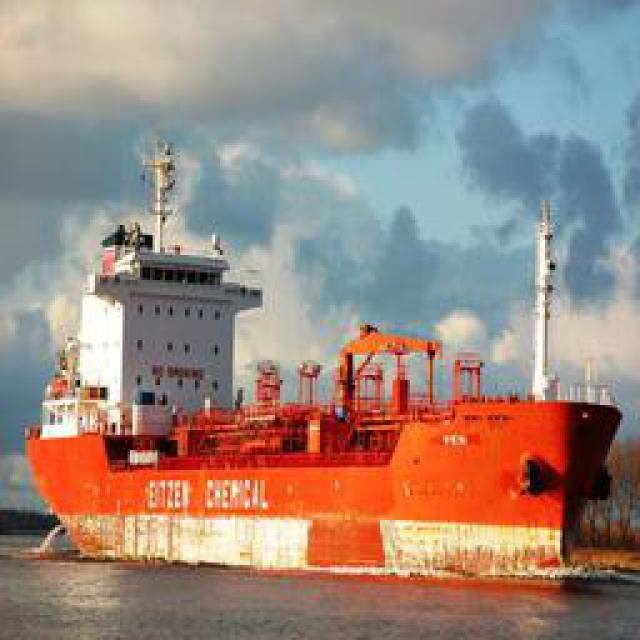Ship: (25, 225, 632, 591)
